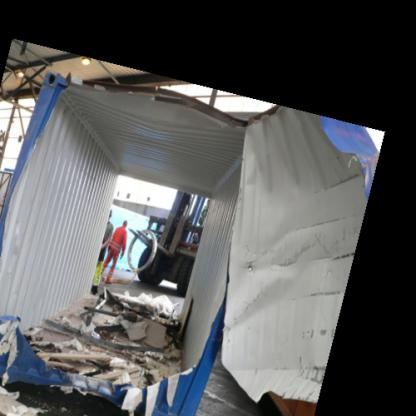Damage: (3, 80, 355, 415)
